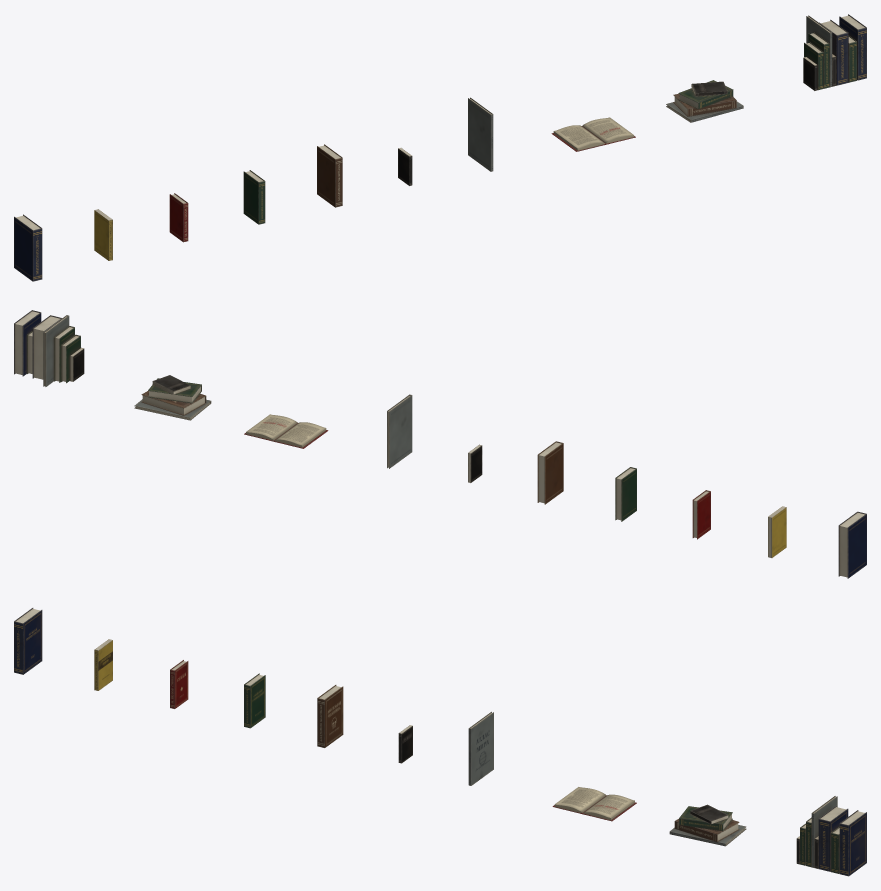
File: Books.fbx
3 views of the same model, one above another, from view 1: azimuth 30°, elevation 25°; view 2: azimuth 150°, elevation 25°; view 3: azimuth 330°, elevation 25° (orthographic).
Parts seen in each view (by area): view 1: Book_Row, Book_Stack, Book_Open, Book_Encyclopedia, Book_Atlas, Book_Anatomy, Book_Collected, Book_Poems, Book_Chemistry; view 2: Book_Row, Book_Stack, Book_Open, Book_Encyclopedia, Book_Atlas, Book_Anatomy, Book_Collected, Book_Chemistry, Book_Poems; view 3: Book_Row, Book_Stack, Book_Open, Book_Encyclopedia, Book_Atlas, Book_Anatomy, Book_Collected, Book_Chemistry, Book_Poems.
Boxes of the visible parts, box(x1,y1,x2,y2) form: Book_Row: box(803, 14, 866, 90); Book_Stack: box(666, 80, 743, 122); Book_Open: box(551, 117, 635, 151); Book_Encyclopedia: box(14, 214, 42, 281); Book_Atlas: box(468, 97, 493, 171); Book_Anatomy: box(317, 144, 342, 207); Book_Collected: box(243, 170, 265, 224); Book_Poems: box(169, 193, 188, 242); Book_Chemistry: box(94, 209, 112, 260); Book_Row: box(14, 310, 84, 386); Book_Stack: box(134, 375, 211, 420); Book_Open: box(244, 414, 328, 448); Book_Encyclopedia: box(838, 511, 866, 578); Book_Atlas: box(387, 394, 412, 468); Book_Anatomy: box(537, 441, 563, 504); Book_Collected: box(615, 467, 636, 521); Book_Chemistry: box(768, 506, 786, 557); Book_Poems: box(692, 490, 710, 539); Book_Row: box(796, 796, 866, 876); Book_Stack: box(669, 804, 746, 846); Book_Open: box(552, 787, 636, 821); Book_Encyclopedia: box(14, 608, 42, 674); Book_Atlas: box(468, 711, 493, 785); Book_Anatomy: box(317, 685, 343, 747); Book_Collected: box(244, 673, 265, 728); Book_Chemistry: box(94, 639, 112, 690); Book_Poems: box(170, 660, 188, 708).
Size of the model in its own units: 4.42 by 0.29 by 0.2408.
